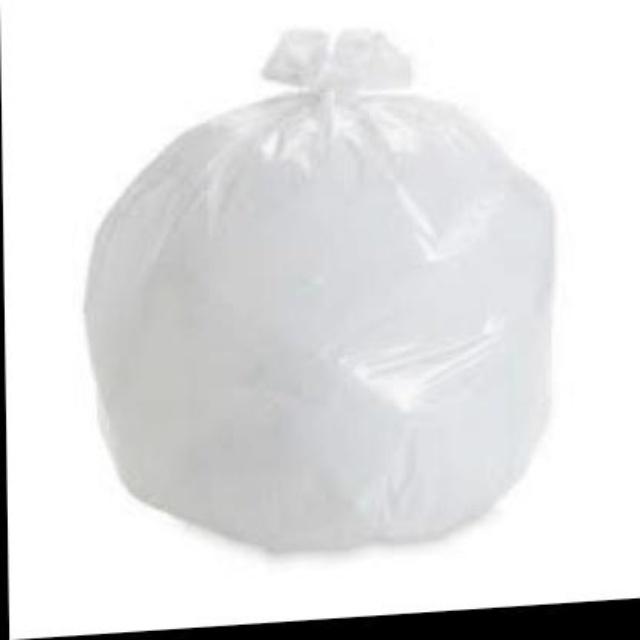trash: (86, 31, 551, 549)
